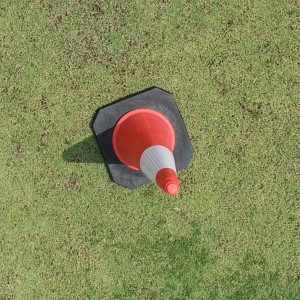traffic cone: (92, 87, 194, 195)
